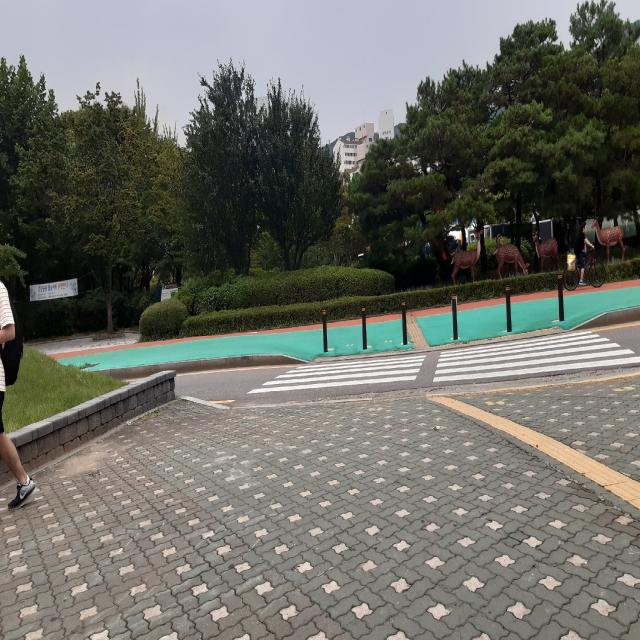횡단보도: (246, 329, 640, 396)
